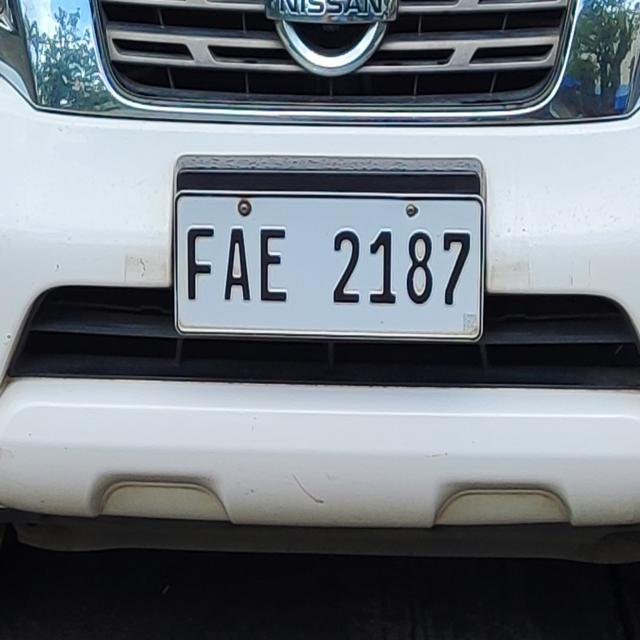LicensePlate: (152, 164, 510, 343)
